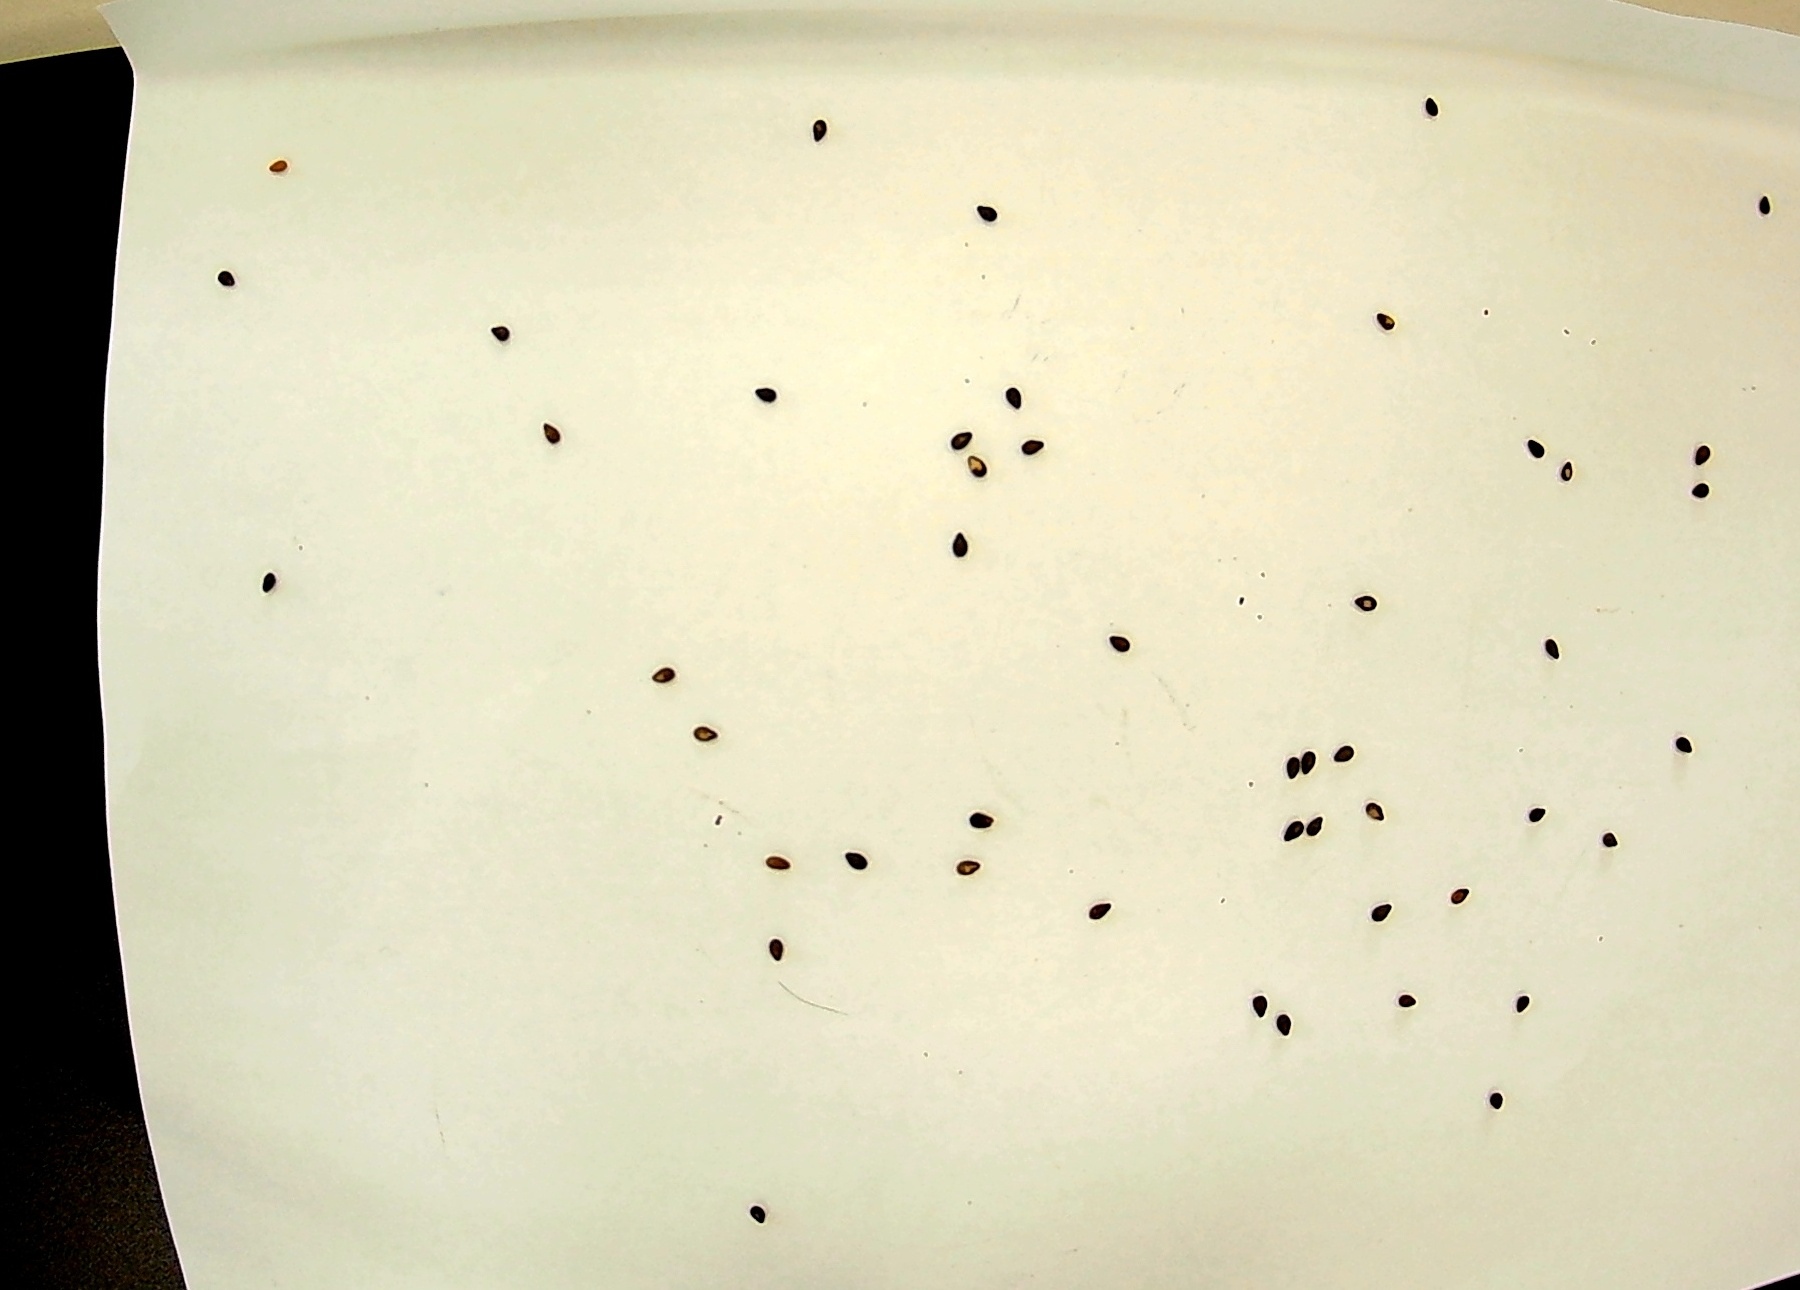sesami: (1333, 581, 1386, 627), (239, 565, 292, 603), (1748, 181, 1792, 228), (1441, 878, 1478, 927), (1108, 616, 1141, 666), (830, 842, 880, 875), (938, 524, 973, 570), (639, 651, 684, 685), (1367, 288, 1397, 341), (960, 806, 1000, 843), (1507, 993, 1549, 1028), (1076, 895, 1122, 926), (1007, 377, 1041, 419), (751, 842, 788, 877), (973, 200, 1010, 235), (530, 415, 567, 450), (1532, 631, 1568, 666), (758, 935, 795, 969), (1367, 889, 1393, 938), (1589, 822, 1631, 852), (734, 380, 786, 403), (1665, 727, 1697, 765), (481, 316, 512, 353), (953, 859, 988, 891), (1543, 461, 1580, 491), (1679, 438, 1713, 469), (1412, 92, 1446, 123), (738, 1196, 767, 1230), (1393, 981, 1420, 1016), (804, 119, 826, 162), (1292, 751, 1321, 783), (1275, 815, 1303, 847), (1026, 430, 1047, 472), (1513, 437, 1554, 458), (1331, 737, 1365, 762), (687, 725, 721, 748), (966, 447, 1000, 469), (1274, 750, 1291, 796), (204, 267, 234, 290), (1273, 1015, 1295, 1046), (258, 156, 292, 176), (949, 424, 973, 451), (1360, 799, 1387, 822), (1247, 988, 1268, 1018), (1515, 803, 1546, 822), (1478, 1090, 1514, 1106), (1684, 484, 1716, 501), (1310, 811, 1321, 838)
